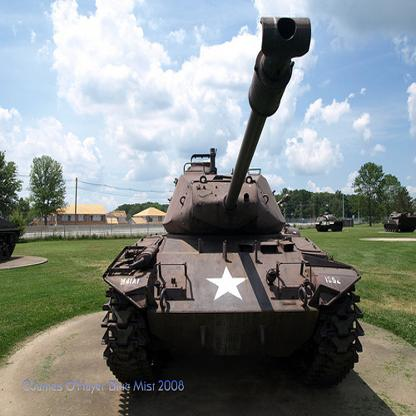Tank: (103, 17, 369, 392)
